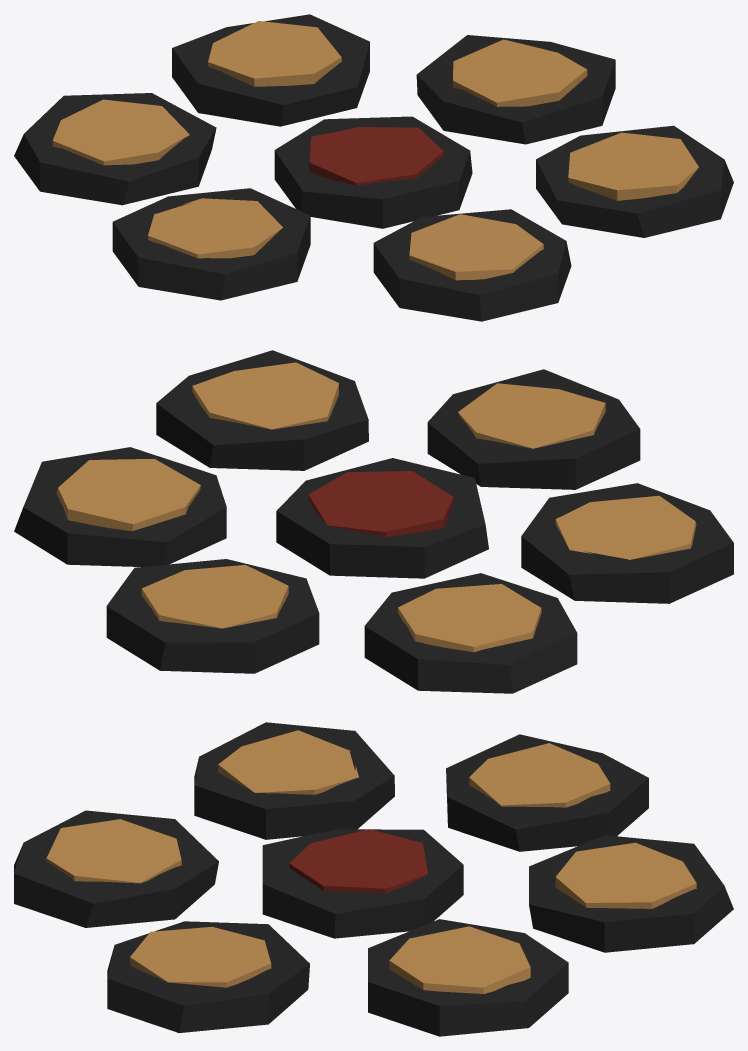
File: StonePath01 1.fbx
3 views of the same model, one above another, from view 1: azimuth 30°, elevation 25°; view 2: azimuth 150°, elevation 25°; view 3: azimuth 270°, elevation 25° (orthographic). The views are drawn at different scales.
Visible parts, largest first — view 1: StonePath01; view 2: StonePath01; view 3: StonePath01.
Boxes of the visible parts, x1=… form: StonePath01: x1=14, y1=14, x2=733, y2=321; StonePath01: x1=14, y1=350, x2=733, y2=693; StonePath01: x1=14, y1=722, x2=733, y2=1036.
Bounding box in the file's own units: 318 × 18.53 × 341.
